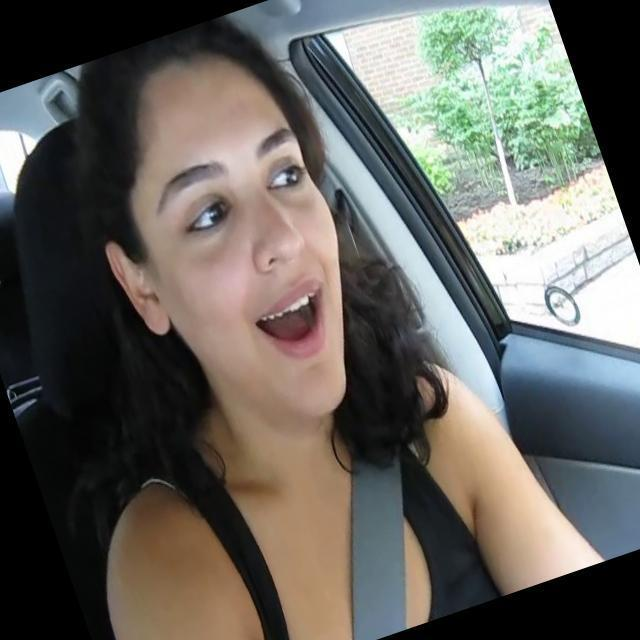open-mouth: (255, 282, 328, 360)
